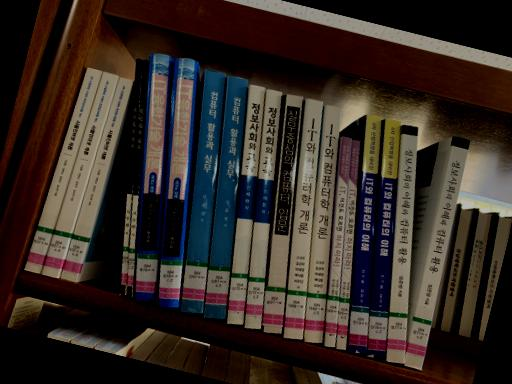book-spine: (23, 67, 101, 274), (41, 72, 118, 278), (403, 136, 469, 371), (60, 78, 133, 283), (180, 69, 226, 314), (203, 76, 247, 319), (262, 94, 303, 334), (158, 58, 197, 308), (283, 99, 323, 340), (227, 84, 266, 325), (243, 90, 282, 330), (135, 54, 171, 301), (303, 105, 340, 344), (368, 118, 401, 360), (349, 114, 382, 354), (387, 125, 418, 364), (119, 59, 142, 296), (325, 137, 350, 348), (126, 59, 147, 298), (337, 140, 360, 350)
